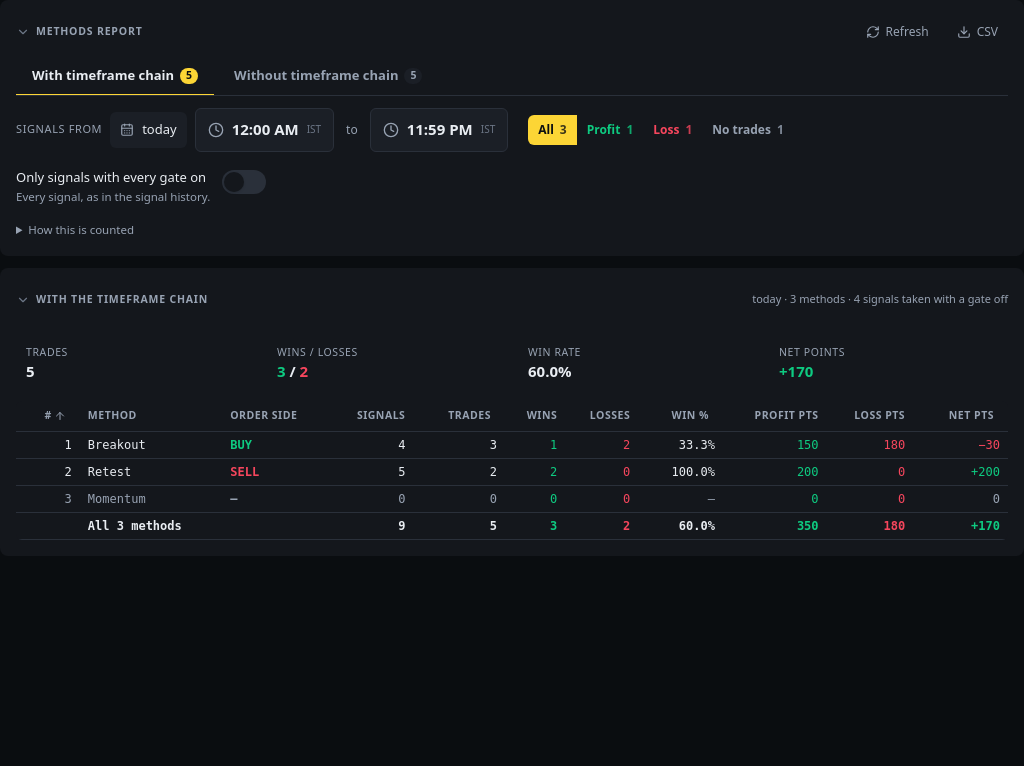
Test: the Methods report › the filter counts follow the tab it is on
The image size is (1024, 766).
Click the tab "Without timeframe chain 5".
click(328, 77)  # box top-left (218, 58), bottom-right (438, 96)
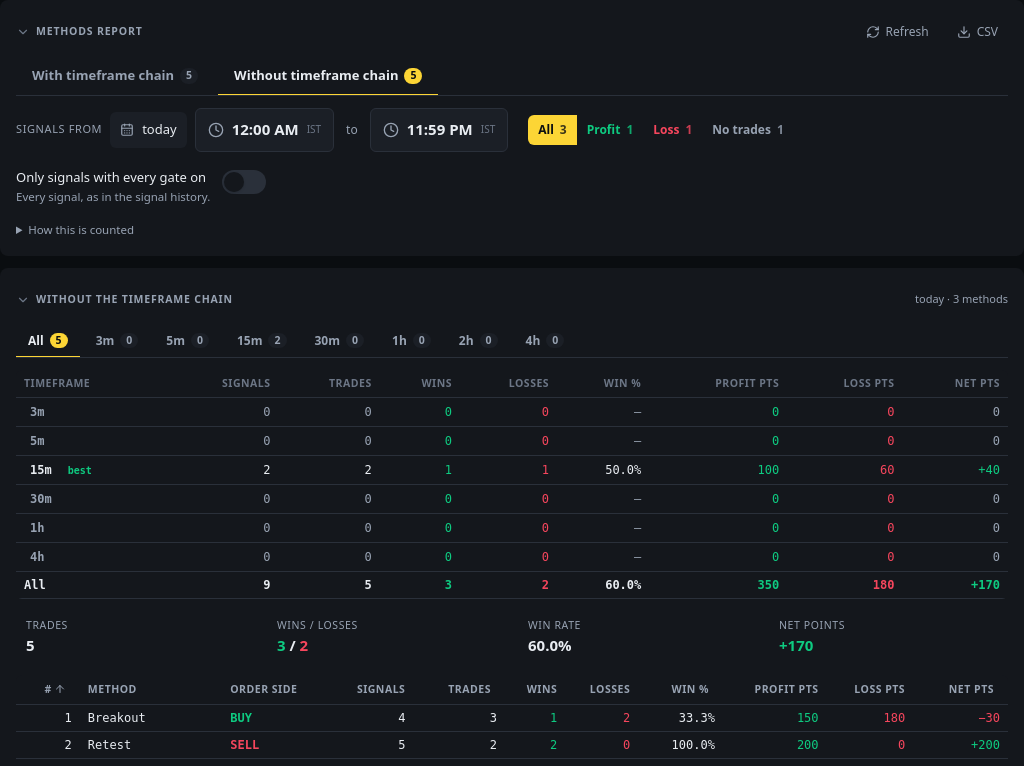
Click the tab "15m 2".
click(262, 342)  # box top-left (225, 326), bottom-right (298, 358)
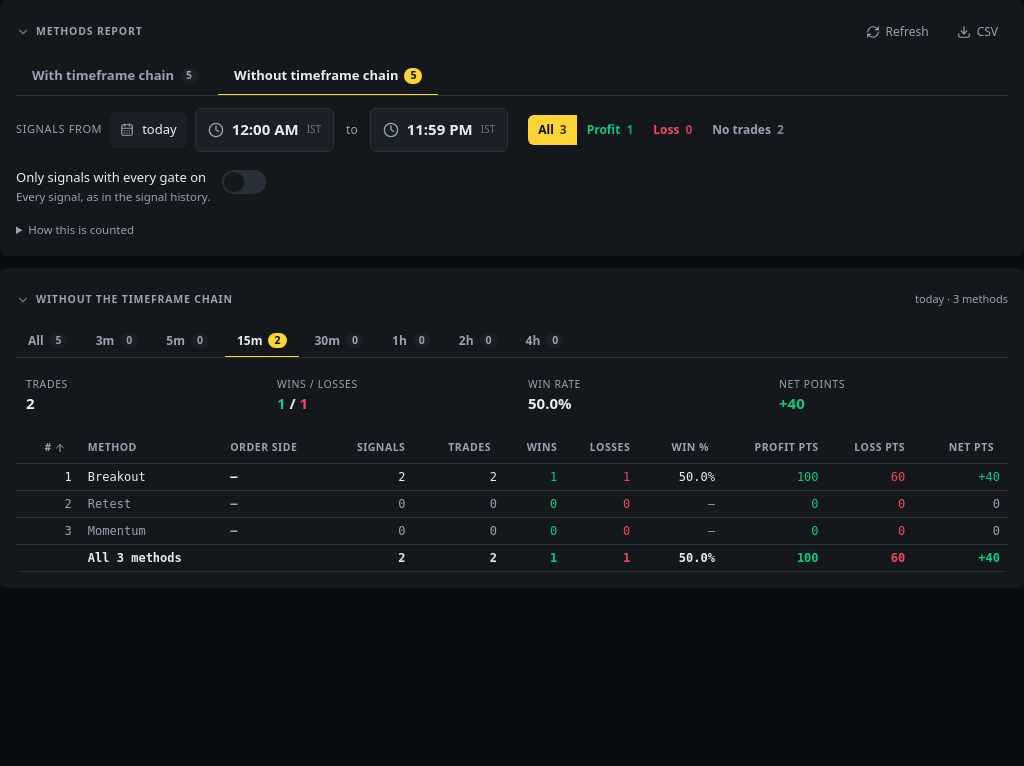
Check: the buttons read "All 3", "Profit 1", "Loss 0", "No trades 2", in this order
Click the button "Loss 0".
click(673, 130)  # box top-left (643, 114), bottom-right (702, 144)
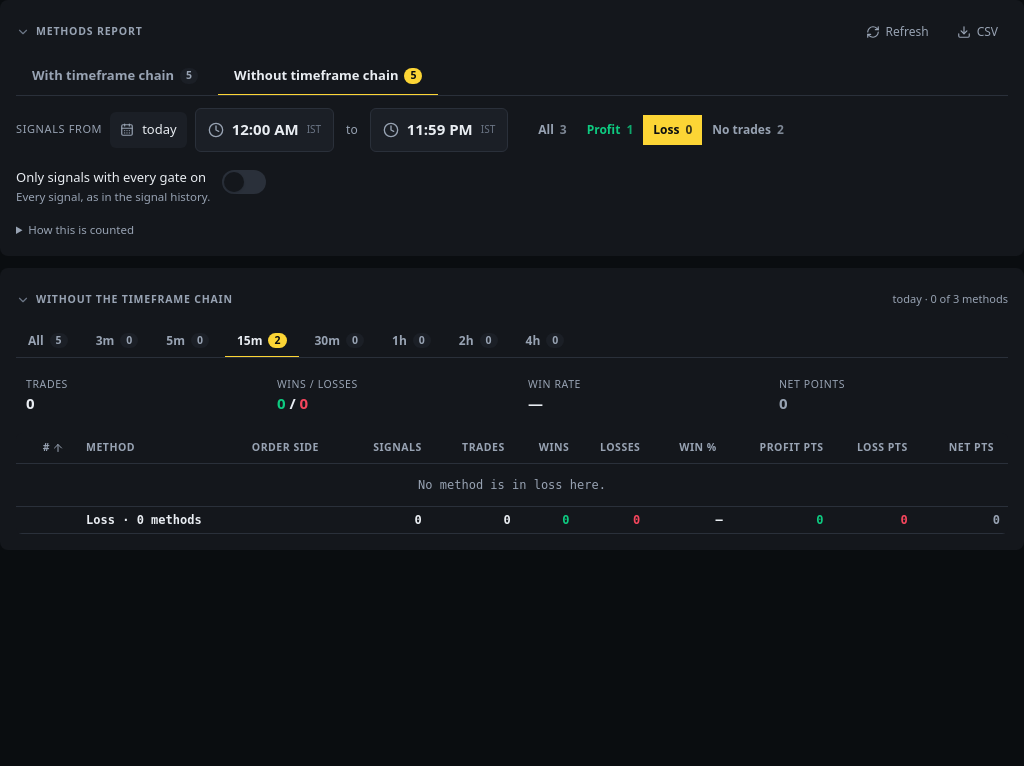
Check: the text "No method is in loss here." is shown, box top-left (16, 463), bottom-right (1008, 506)
